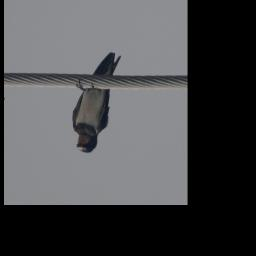Swallow: (72, 52, 122, 153)
